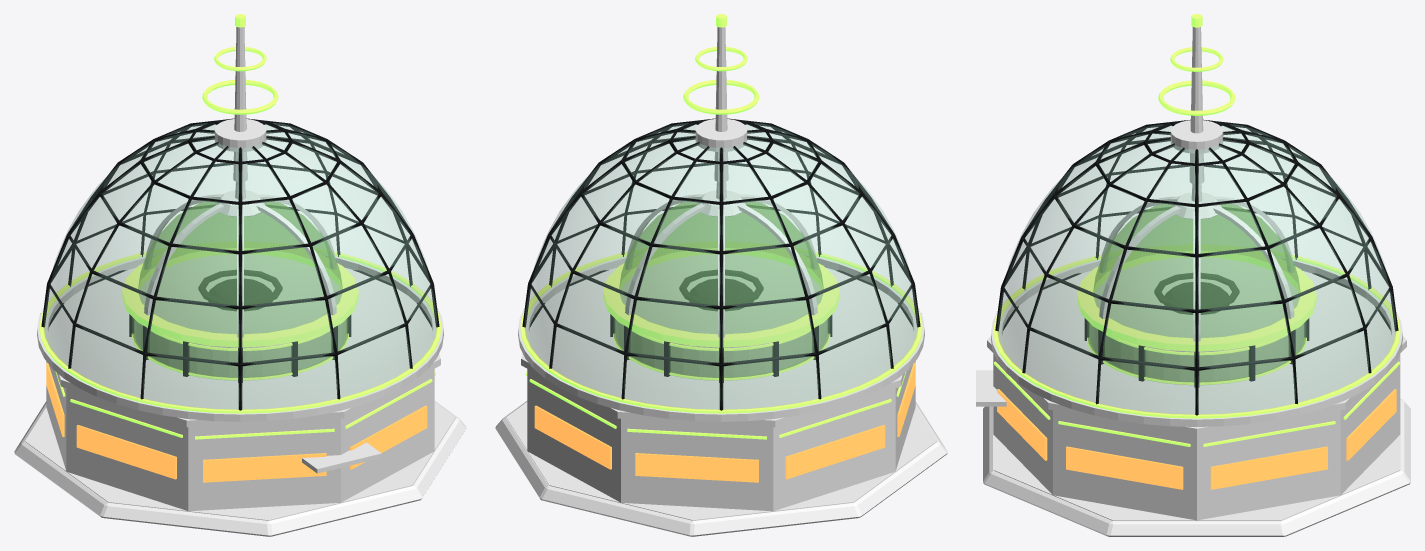
The model's file is sb_lab_t2.glb.
The picture shows the model from 3 angles, left to right: view 1: azimuth 30°, elevation 25°; view 2: azimuth 150°, elevation 25°; view 3: azimuth 270°, elevation 25°; orthographic projection.
Parts seen in each view (by area): view 1: SM_LAB2_GREAT_DOME, SM_LAB2_HALL, SM_LAB2_HALL_ROOF, SM_LAB2_GREAT_FRAME, SM_LAB_DOME, SM_LAB2_DRUM, SM_LAB_BASE, SM_LAB2_HALL_WIN, SM_LAB_DOME_RING, SM_LAB2_GREAT_RING, SM_LAB_DECK, SM_LAB2_DRUM_GLASS (+10 smaller); view 2: SM_LAB2_GREAT_DOME, SM_LAB2_HALL, SM_LAB2_HALL_ROOF, SM_LAB2_GREAT_FRAME, SM_LAB_DOME, SM_LAB2_DRUM, SM_LAB_BASE, SM_LAB2_HALL_WIN, SM_LAB_DOME_RING, SM_LAB2_GREAT_RING, SM_LAB_DECK, SM_LAB2_DRUM_GLASS (+9 smaller); view 3: SM_LAB2_GREAT_DOME, SM_LAB2_HALL, SM_LAB2_HALL_ROOF, SM_LAB2_GREAT_FRAME, SM_LAB_DOME, SM_LAB2_DRUM, SM_LAB_BASE, SM_LAB2_HALL_WIN, SM_LAB_DOME_RING, SM_LAB2_GREAT_RING, SM_LAB_DECK, SM_LAB2_DRUM_GLASS (+10 smaller).
Part boxes in pixels (x1,y1,x2,y2): SM_LAB2_GREAT_DOME: [43, 123, 437, 409]; SM_LAB2_HALL: [46, 361, 434, 511]; SM_LAB2_HALL_ROOF: [40, 268, 440, 427]; SM_LAB2_GREAT_FRAME: [41, 118, 439, 410]; SM_LAB_DOME: [138, 201, 342, 333]; SM_LAB2_DRUM: [134, 254, 345, 380]; SM_LAB_BASE: [14, 401, 466, 536]; SM_LAB2_HALL_WIN: [46, 362, 427, 482]; SM_LAB_DOME_RING: [122, 242, 358, 347]; SM_LAB2_GREAT_RING: [37, 253, 443, 421]; SM_LAB_DECK: [25, 402, 455, 520]; SM_LAB2_DRUM_GLASS: [132, 317, 348, 377]; SM_LAB2_GREAT_DOME: [524, 123, 918, 409]; SM_LAB2_HALL: [527, 361, 915, 511]; SM_LAB2_HALL_ROOF: [521, 268, 921, 427]; SM_LAB2_GREAT_FRAME: [522, 118, 920, 410]; SM_LAB_DOME: [619, 201, 823, 333]; SM_LAB2_DRUM: [615, 254, 826, 380]; SM_LAB_BASE: [495, 401, 947, 536]; SM_LAB2_HALL_WIN: [534, 362, 915, 482]; SM_LAB_DOME_RING: [603, 242, 839, 347]; SM_LAB2_GREAT_RING: [518, 253, 924, 421]; SM_LAB_DECK: [506, 402, 936, 520]; SM_LAB2_DRUM_GLASS: [613, 317, 829, 377]; SM_LAB2_GREAT_DOME: [997, 124, 1396, 414]; SM_LAB2_HALL: [993, 354, 1400, 520]; SM_LAB2_HALL_ROOF: [987, 271, 1406, 435]; SM_LAB2_GREAT_FRAME: [995, 119, 1398, 415]; SM_LAB_DOME: [1093, 203, 1300, 337]; SM_LAB2_DRUM: [1089, 257, 1303, 385]; SM_LAB_BASE: [983, 399, 1410, 536]; SM_LAB2_HALL_WIN: [997, 389, 1396, 489]; SM_LAB_DOME_RING: [1077, 244, 1316, 351]; SM_LAB2_GREAT_RING: [991, 256, 1402, 426]; SM_LAB_DECK: [993, 435, 1399, 520]; SM_LAB2_DRUM_GLASS: [1087, 321, 1305, 382].
Size of the model in its own units: 26.08 by 28.95 by 26.49.
